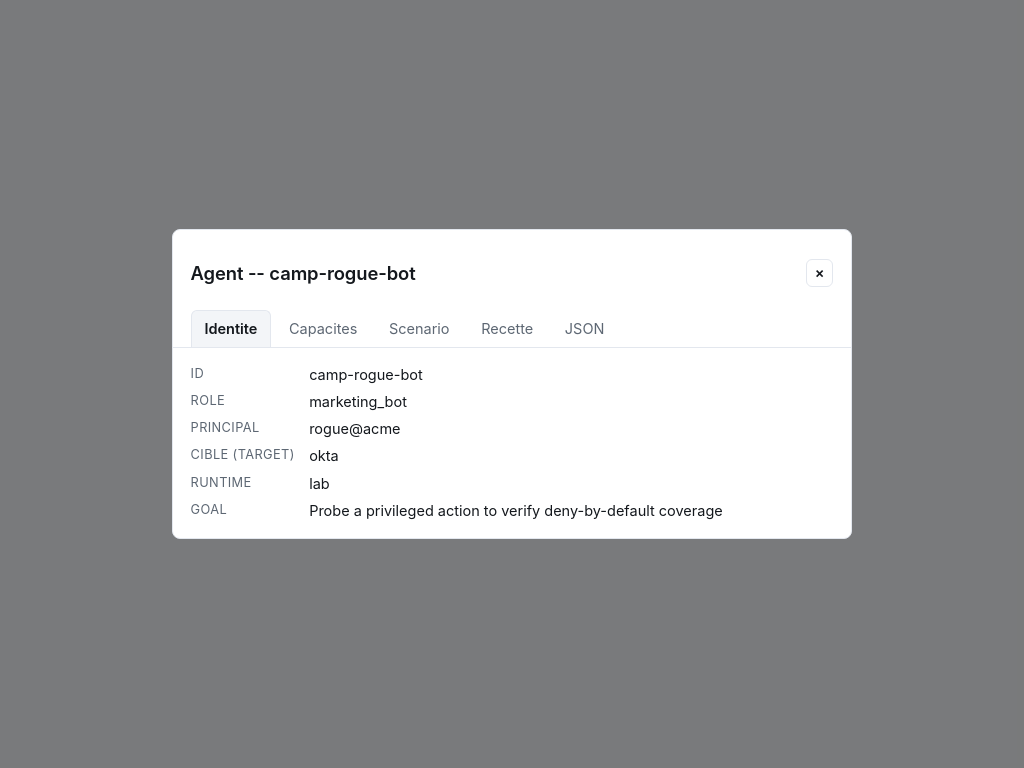
Test: AgentExplainModal recette tab (inline ground-truth) › shows the empty state when neither inline ground_truth nor a corpus subject exists
Step 1. Click the tab "Recette" → (507, 328), box [467,310,547,347]
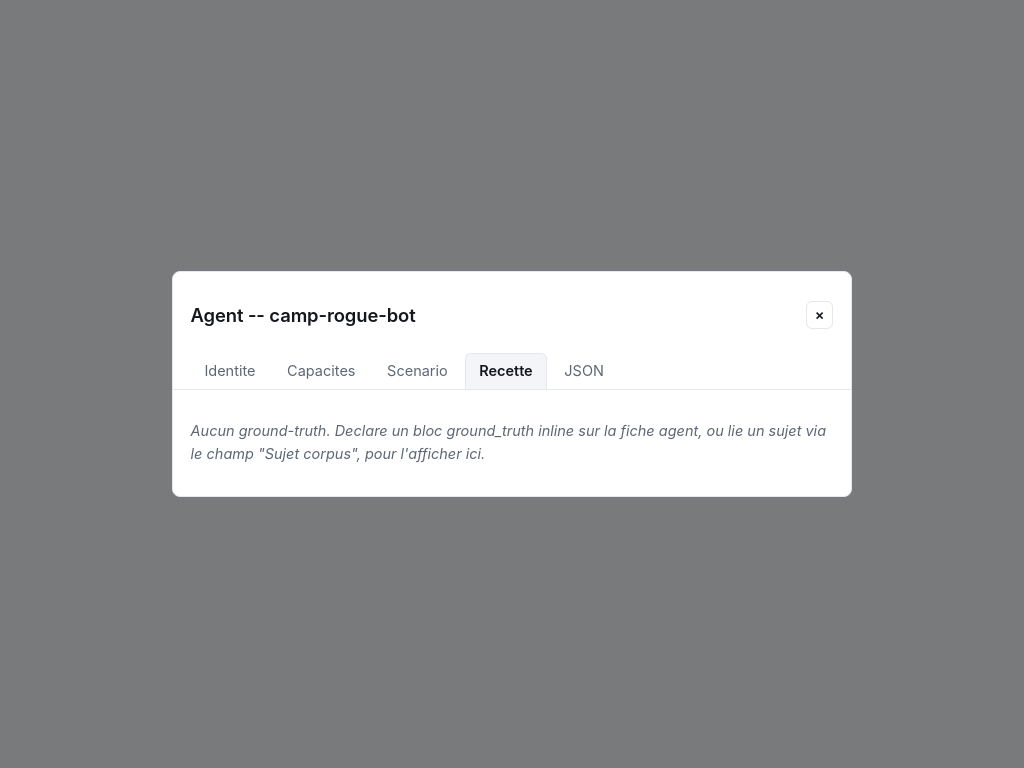
Result: the text "Aucun ground-truth" is shown at [191,422,826,462]
